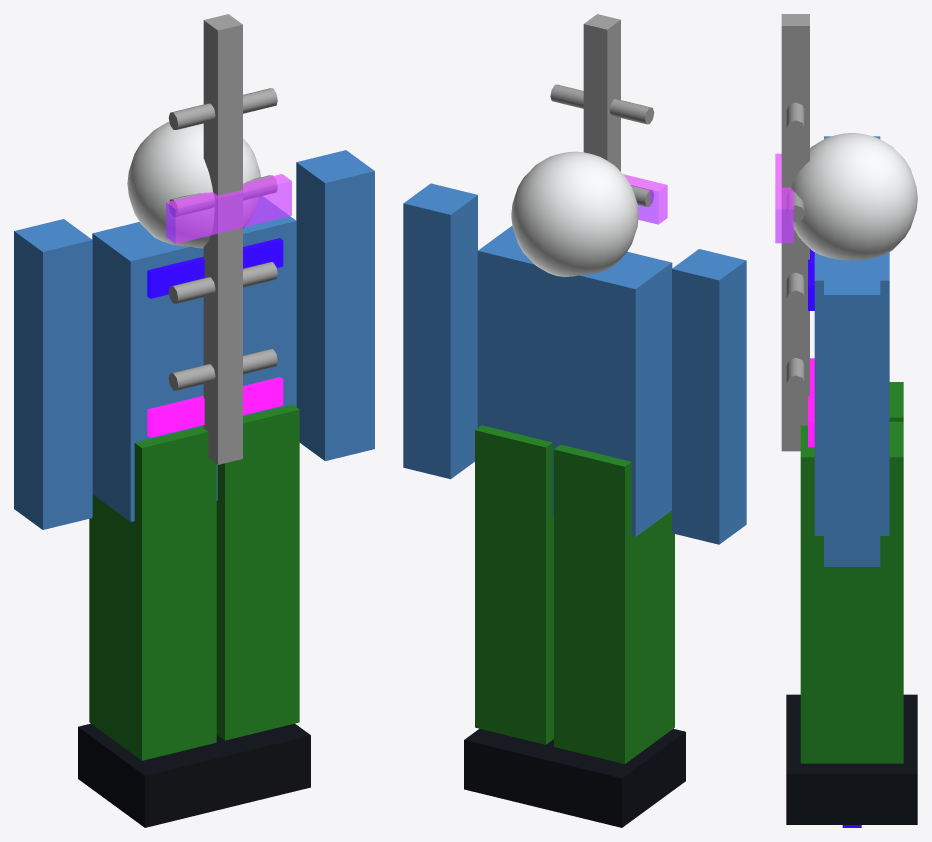
File: pedestrians.glb
3 views of the same model, side by side, from view 1: azimuth 30°, elevation 25°; view 2: azimuth 150°, elevation 25°; view 3: azimuth 270°, elevation 25° (orthographic). The views are drawn at different scales.
Size of the model in its own units: 2 by 4.54 by 0.76.
